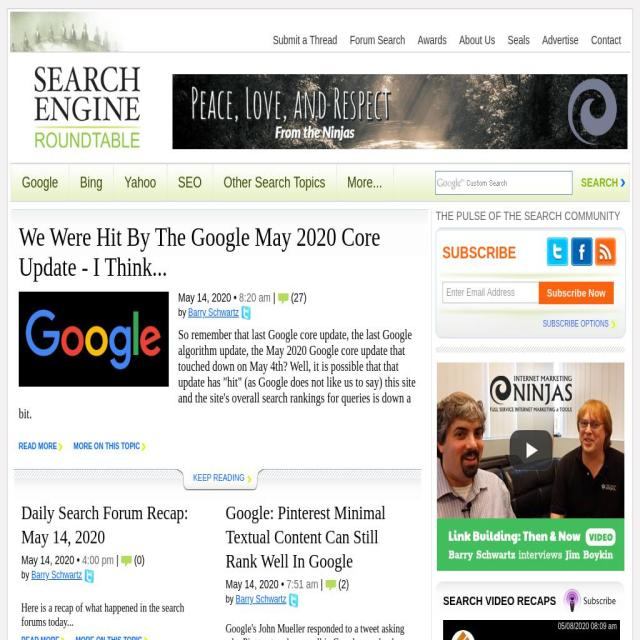button: (212, 164, 336, 201), (12, 164, 70, 201), (336, 164, 393, 201), (114, 164, 167, 201), (69, 164, 114, 201), (167, 164, 212, 201), (563, 586, 616, 612), (73, 442, 147, 452), (193, 472, 253, 483), (542, 320, 616, 328), (18, 442, 64, 452), (75, 635, 148, 640), (22, 635, 66, 640)
field: (435, 171, 573, 195), (442, 282, 538, 303), (538, 282, 614, 304), (581, 175, 625, 189)
heading: (19, 222, 380, 282), (226, 502, 386, 572), (21, 502, 188, 548), (442, 243, 616, 262), (436, 209, 626, 223), (443, 594, 556, 608), (563, 588, 616, 612)
iframe: (443, 620, 620, 640)
image: (437, 362, 624, 571), (172, 74, 628, 149), (19, 292, 169, 386), (31, 66, 142, 148), (547, 237, 569, 266), (570, 237, 592, 266), (595, 237, 616, 266), (84, 568, 94, 584), (288, 592, 298, 608), (240, 306, 250, 321), (120, 556, 132, 567), (325, 580, 336, 592), (278, 293, 288, 304)
link: (273, 33, 338, 47), (349, 33, 405, 47), (32, 569, 82, 582), (236, 593, 286, 606), (188, 307, 240, 318), (542, 33, 579, 47), (459, 33, 495, 47), (418, 33, 448, 47), (591, 33, 621, 47), (508, 33, 530, 47)
text: (19, 327, 421, 438), (21, 600, 209, 632), (226, 621, 413, 640), (22, 554, 82, 568), (226, 578, 286, 592), (178, 291, 240, 304), (557, 622, 617, 630), (82, 554, 114, 568), (286, 578, 318, 592), (238, 291, 270, 304), (288, 291, 306, 304), (131, 554, 145, 568), (336, 578, 350, 592), (21, 569, 31, 582), (226, 593, 236, 606), (114, 554, 122, 568), (318, 578, 326, 592), (178, 307, 188, 318), (270, 291, 278, 304)
